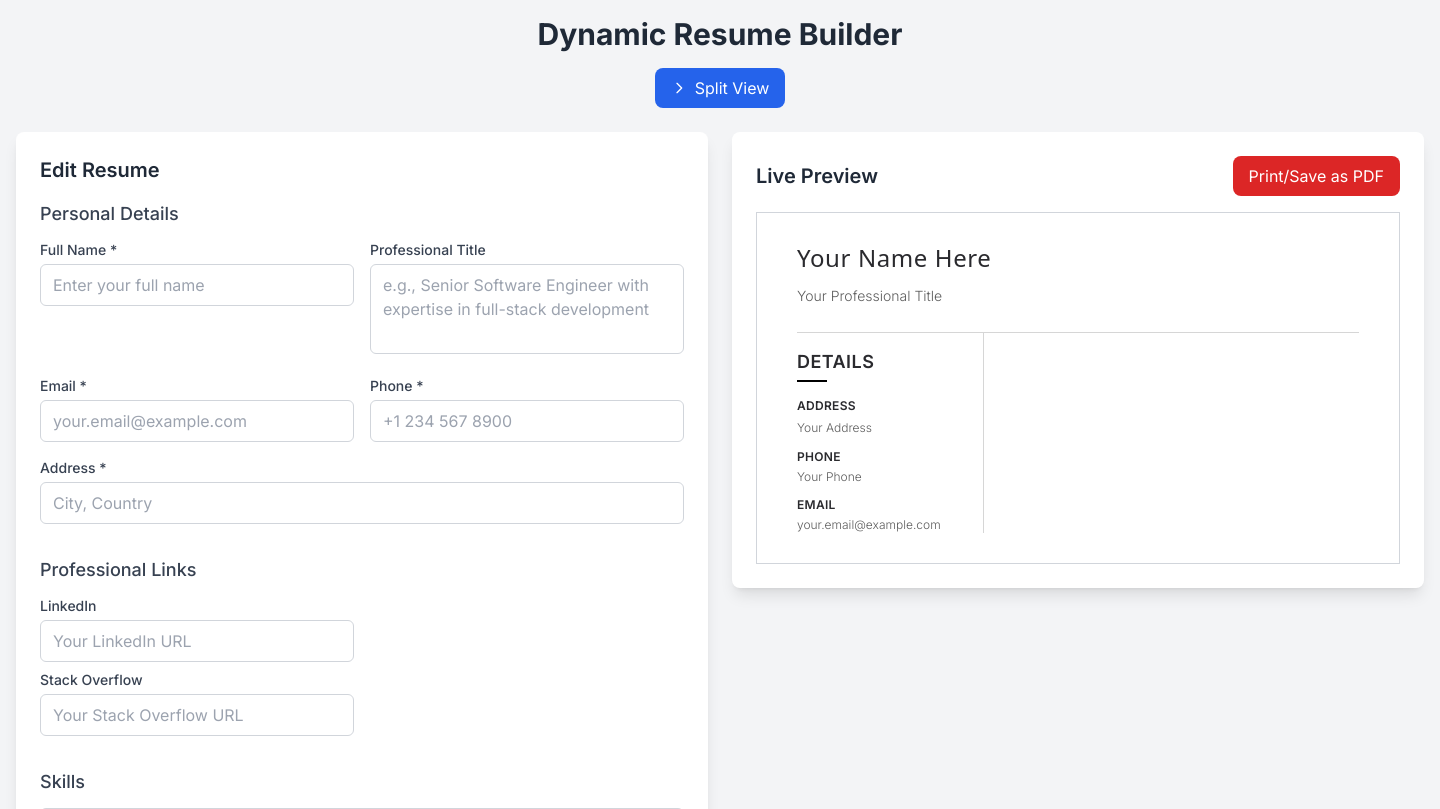
Scenario: BuilderPage Component › phone validation works correctly
Enter invalid phone (too short)
Type "123" into the field with placeholder "+1 234 567 8900" at (527, 421), box x1=370 y1=400 x2=684 y2=442
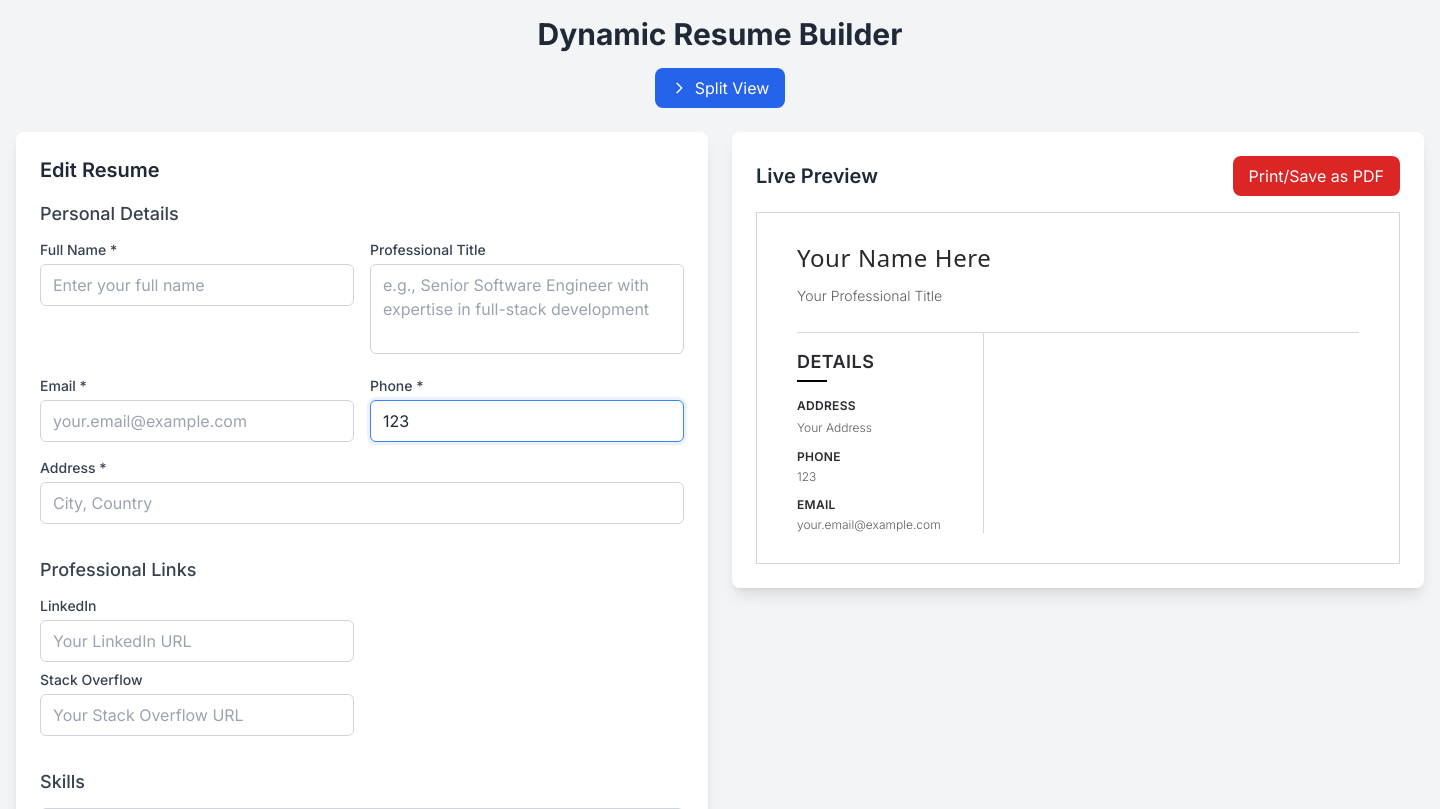
Trigger validation
Click the button "Print/Save as PDF" at (1316, 176), box x1=1233 y1=156 x2=1400 y2=196
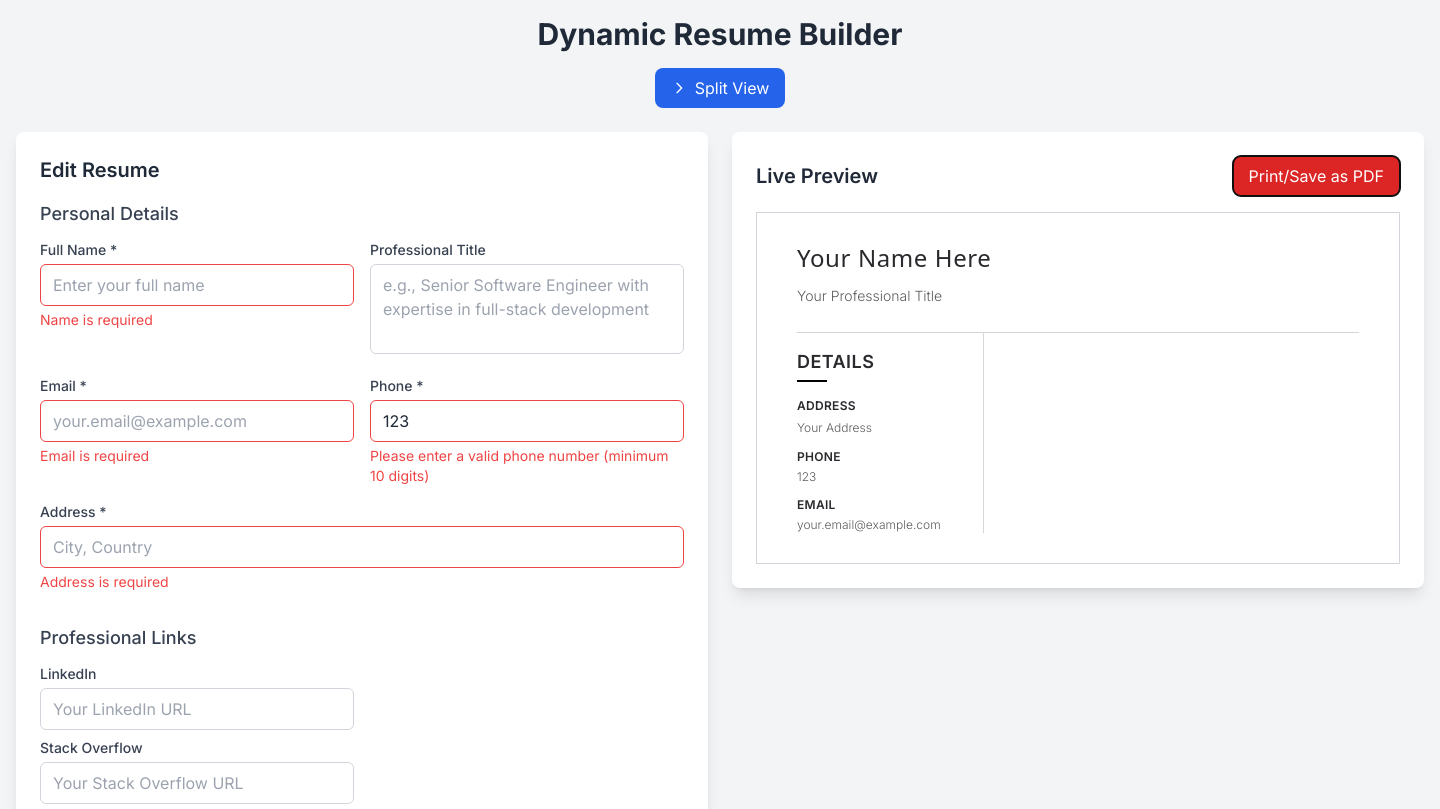
Now the text "Please enter a valid phone number (minimum 10 digits)" is shown, box x1=370 y1=446 x2=684 y2=486
